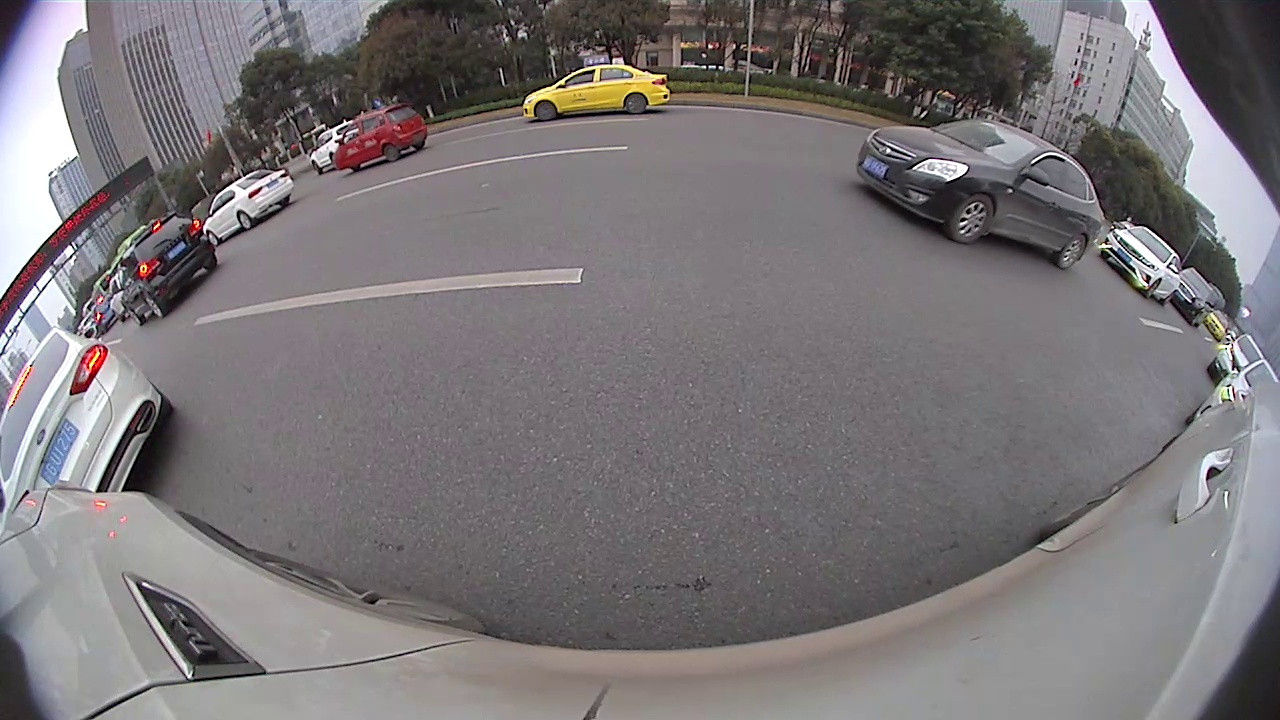car: (854, 115, 1110, 274), (2, 324, 179, 501), (115, 206, 220, 321), (519, 56, 675, 129), (201, 163, 297, 247), (1098, 224, 1186, 310), (328, 106, 433, 172), (1175, 269, 1218, 333)
front: (948, 194, 995, 244), (535, 103, 558, 121)
rear: (1057, 233, 1086, 269), (144, 291, 168, 319), (627, 95, 645, 115), (383, 144, 399, 162), (238, 213, 253, 232)
